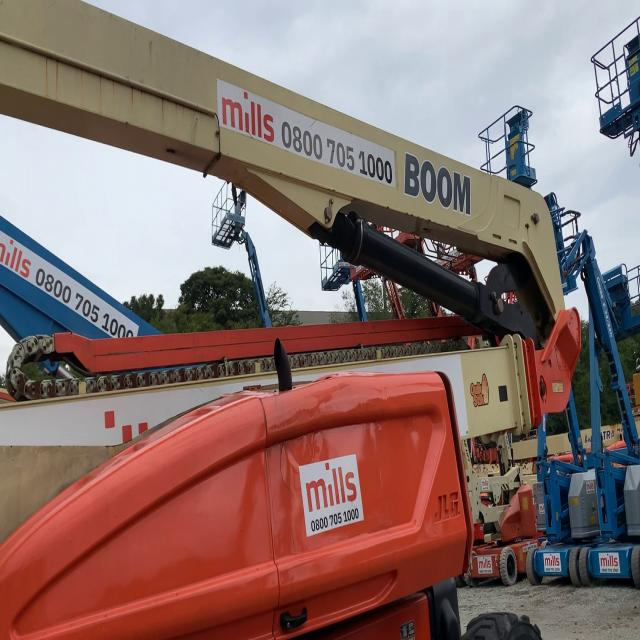Adesivo Longo: (216, 78, 397, 190)
Adesivos: (296, 450, 367, 539), (598, 552, 621, 574), (542, 552, 562, 573), (477, 555, 493, 576)
